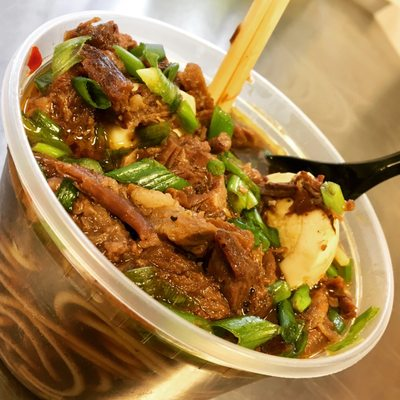curry: (105, 158, 191, 193), (56, 177, 79, 212)
sushi: (1, 7, 385, 396)
